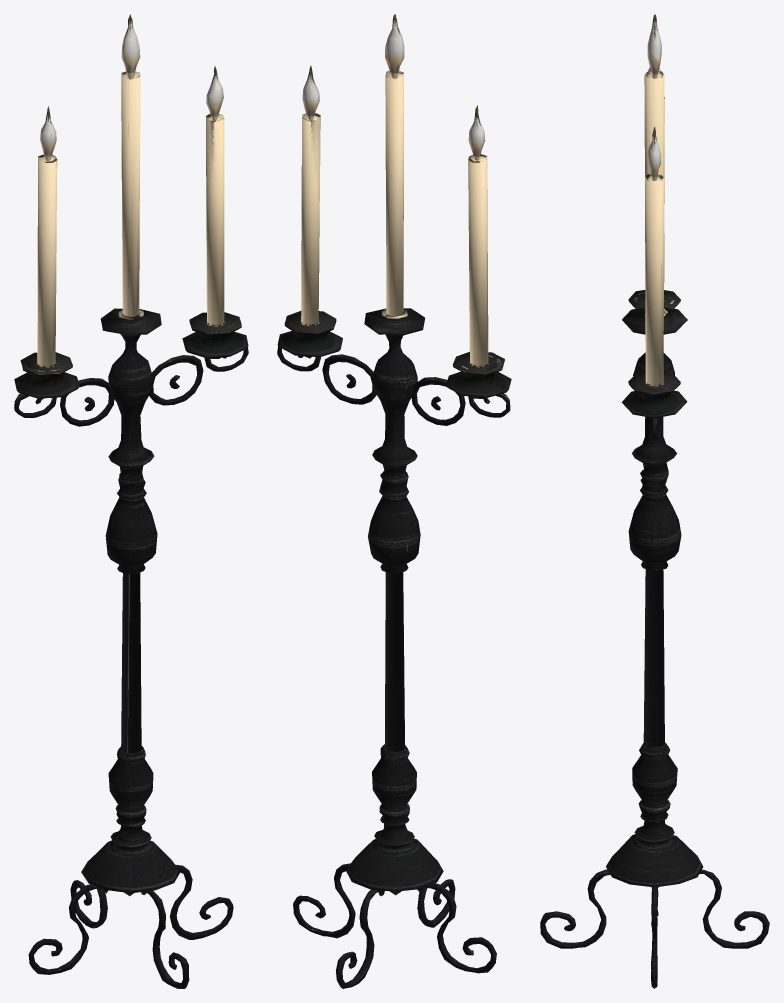
Rendered from candelabro_pie.glb.
3 views of the same model, side by side, from view 1: azimuth 30°, elevation 25°; view 2: azimuth 150°, elevation 25°; view 3: azimuth 270°, elevation 25° (orthographic).
Bounding box in the file's own units: 0.2593 × 1 × 0.2229.
Materials: 1 (1 with a texture image).
